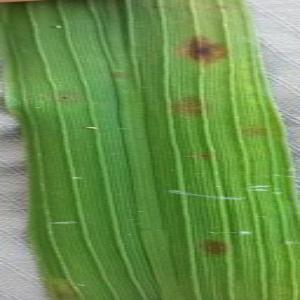Brown_Spot: (174, 22, 233, 72), (169, 91, 216, 124), (192, 228, 233, 262), (51, 89, 80, 107), (195, 149, 218, 165), (43, 19, 58, 33), (54, 22, 66, 32)
